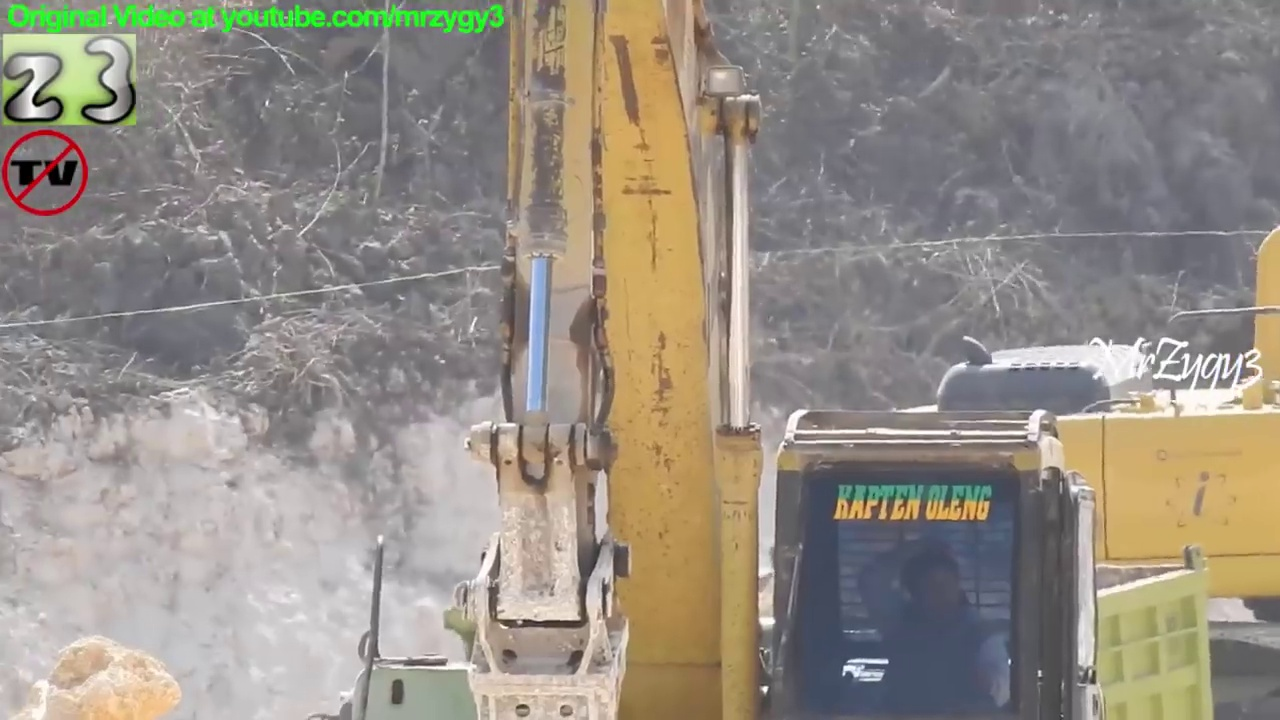excavator: (441, 1, 1109, 720), (705, 1, 1280, 720)
truck: (440, 538, 1233, 720)
